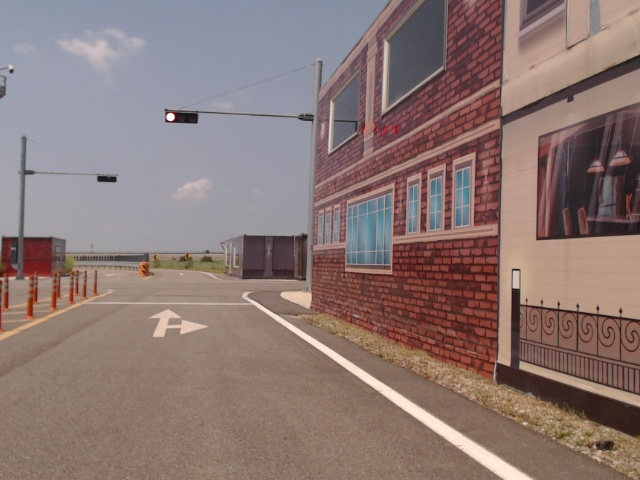red_3: (165, 111, 198, 124)
